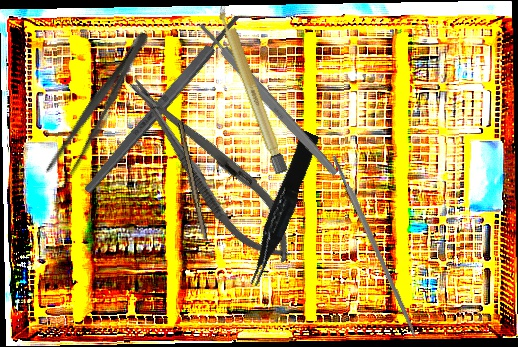Dressing Forceps: (37, 24, 158, 197)
Needle Holder: (112, 62, 310, 277)
Scalpel Handle: (81, 12, 243, 196), (196, 20, 341, 178), (331, 153, 419, 339), (214, 2, 290, 176), (174, 122, 210, 241)
Tissue Forceps: (237, 129, 326, 289)
